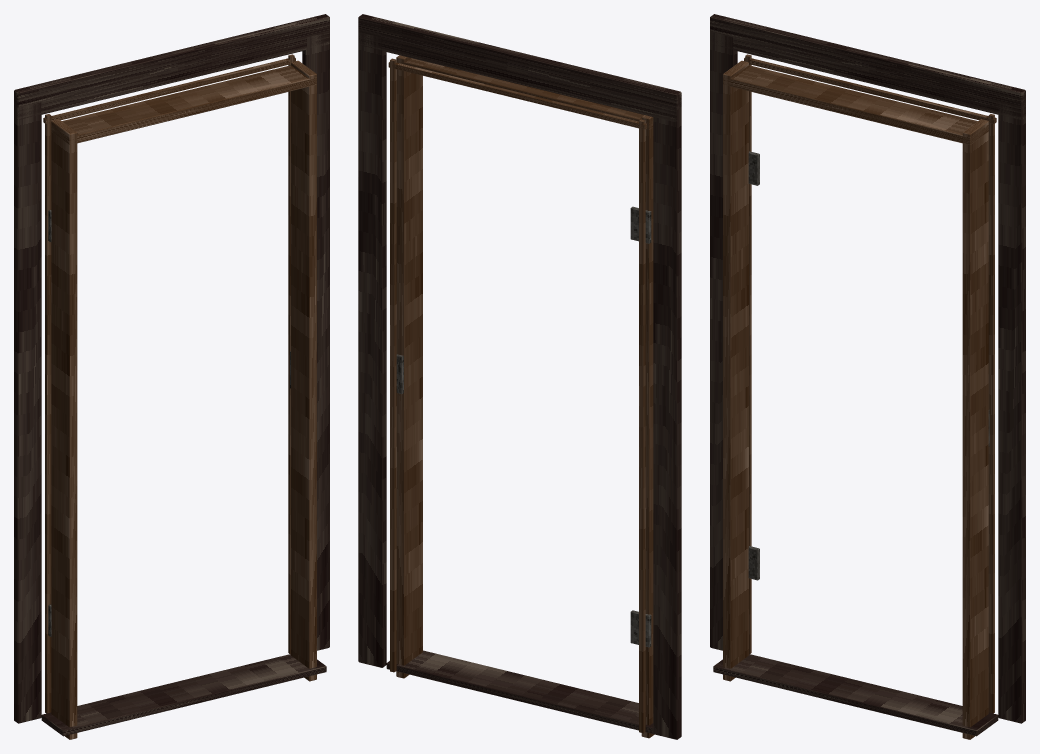
Rendered from door_casing_static.glb.
The picture shows the model from 3 angles, left to right: view 1: azimuth 30°, elevation 25°; view 2: azimuth 150°, elevation 25°; view 3: azimuth 330°, elevation 25°; orthographic projection. The views are drawn at different scales.
Visible parts, largest first — view 1: door_casing_static; view 2: door_casing_static; view 3: door_casing_static.
Part boxes in pixels (x1,y1,x2,y2): door_casing_static: [14, 14, 329, 739]; door_casing_static: [358, 14, 681, 739]; door_casing_static: [710, 14, 1025, 739].
Size of the model in its own units: 1.16 by 2.27 by 0.169.
Materials: 3 (3 with a texture image).
